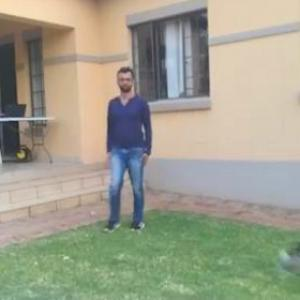follow: (116, 76, 165, 223)
